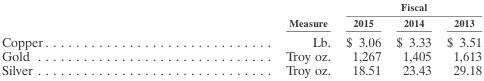table: (0, 0, 481, 77)
table column: (166, 0, 337, 77), (0, 0, 166, 77), (387, 0, 438, 77), (337, 0, 387, 77), (438, 0, 481, 77)
table column header: (0, 0, 481, 31)
table row: (0, 14, 481, 31), (0, 31, 481, 48), (0, 62, 481, 77), (0, 0, 481, 14), (0, 48, 481, 62)
table spanning cell: (166, 0, 337, 31), (337, 0, 481, 14)
